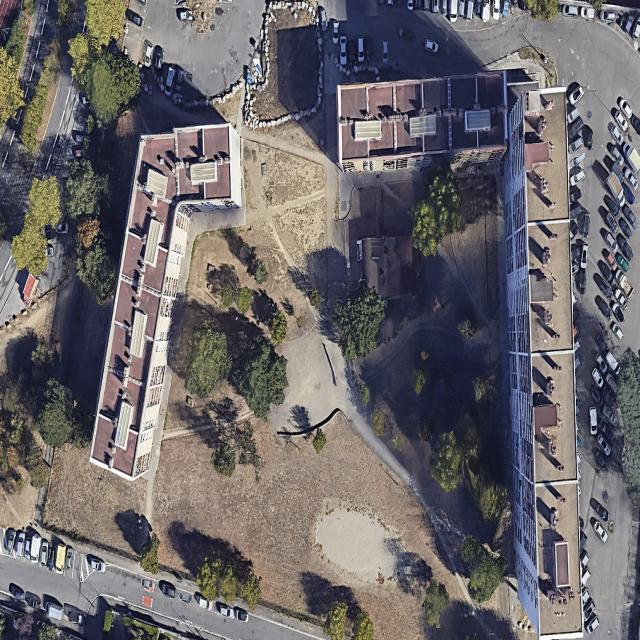immeuble: (64, 105, 258, 490), (492, 86, 594, 640), (333, 70, 511, 172)
